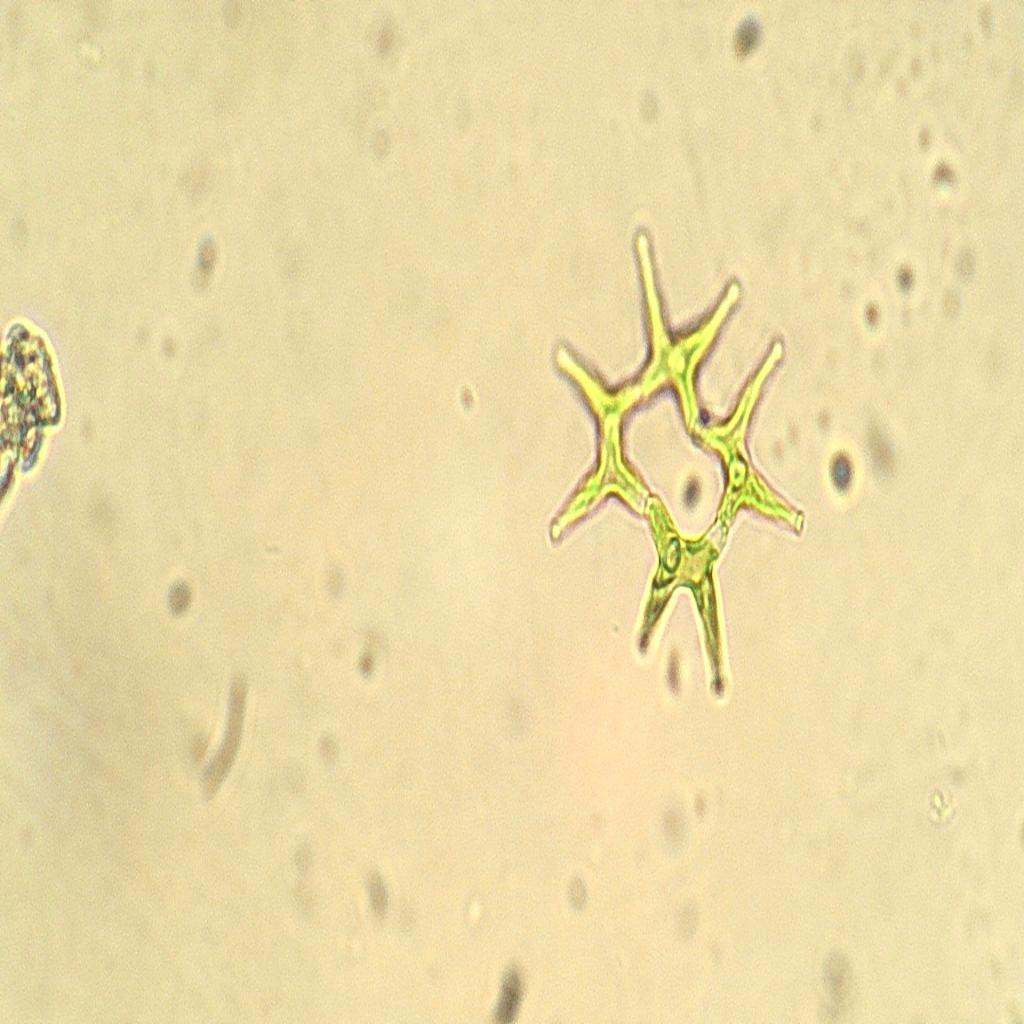Pediastrum_75O: (542, 197, 816, 727)
